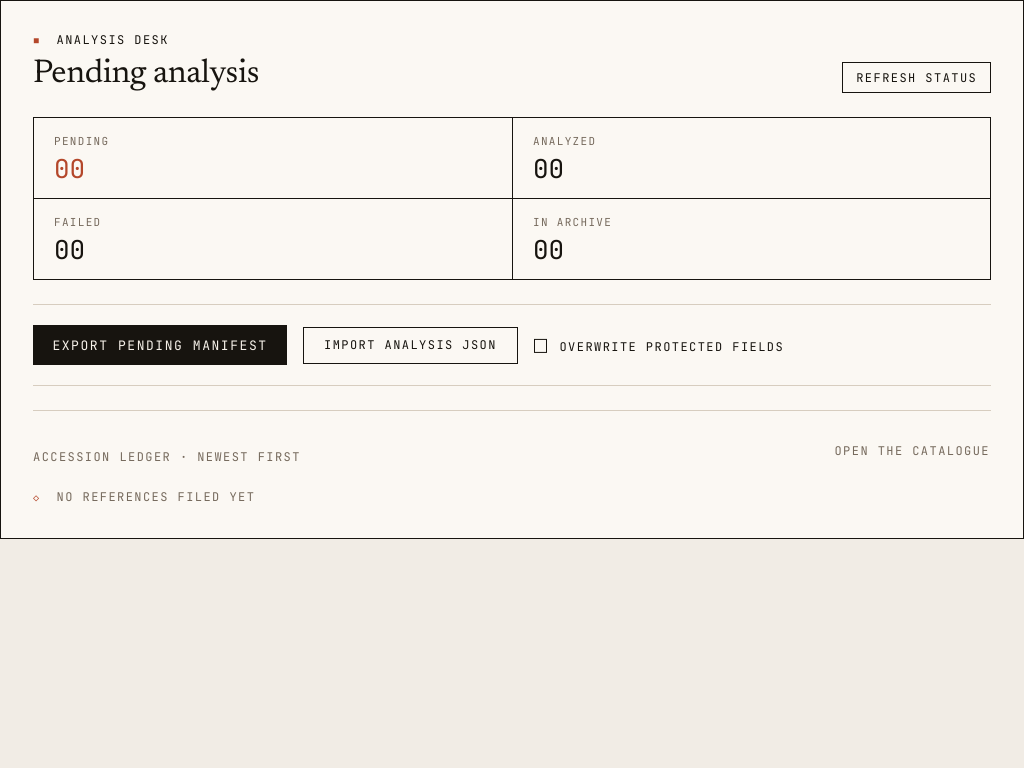
Test: exporting the pending manifest › names references whose image the manifest could not read
Click the button "Export pending manifest" at (160, 345), box [33,326,287,365]
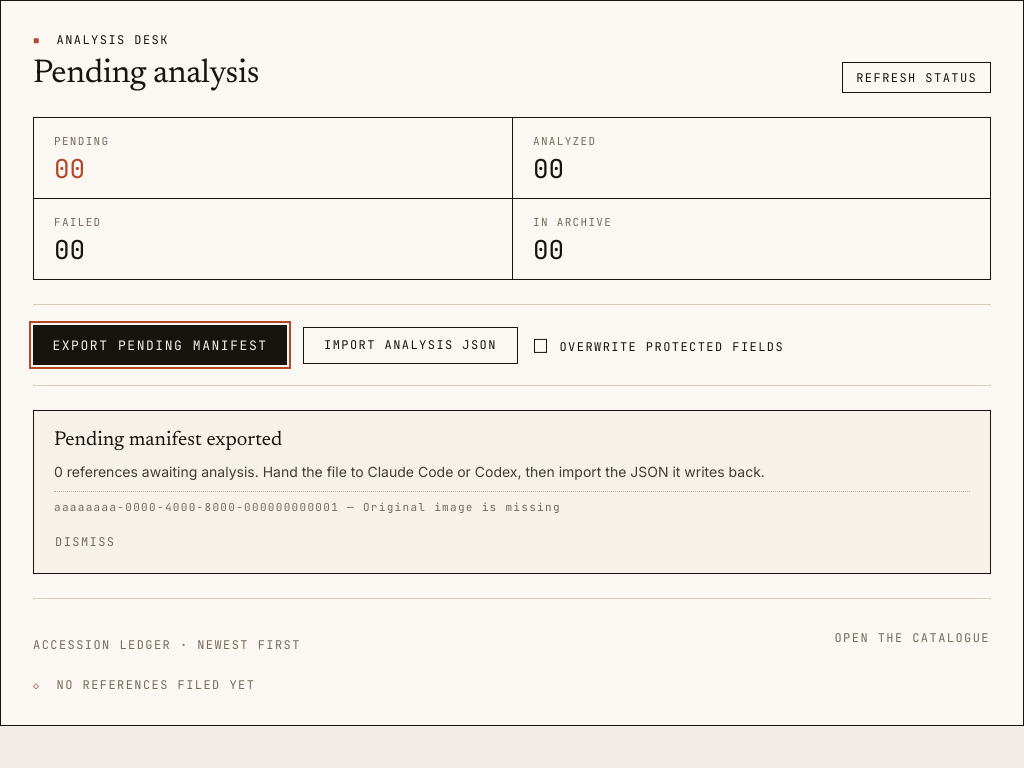
Result: the text "Original image is missing" is shown at [54,500,561,514]
